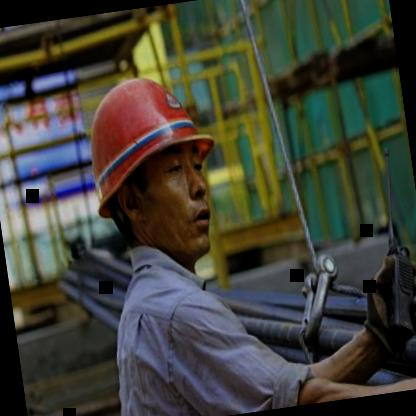helmet: (62, 42, 244, 288)
